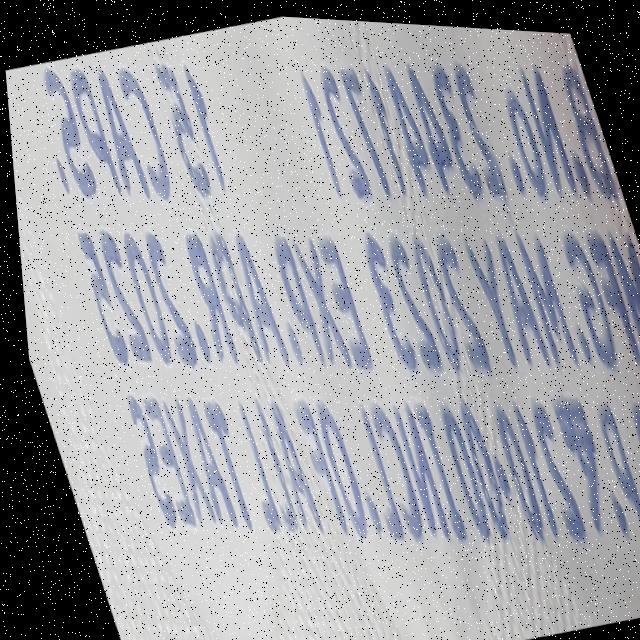sentence: (120, 372, 640, 566), (301, 45, 615, 202), (359, 209, 640, 370), (78, 224, 366, 365), (40, 43, 222, 203)
